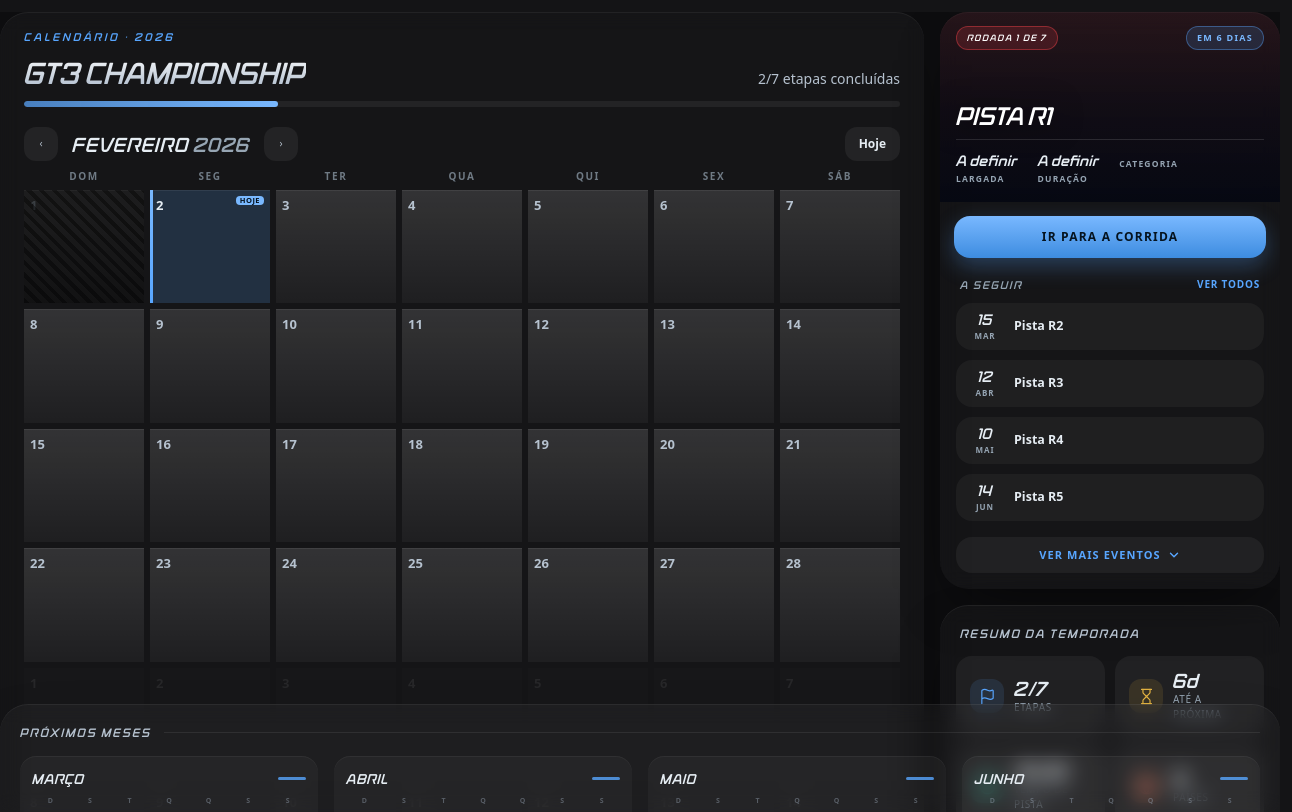
it: CalendarTabRedesign — próximas etapas › 'Ver todos' EXPANDE a lista — não é o botão 'Hoje' disfarçado
Click the button "Ver todos".
click(1229, 284)  # box [1197, 277, 1260, 292]
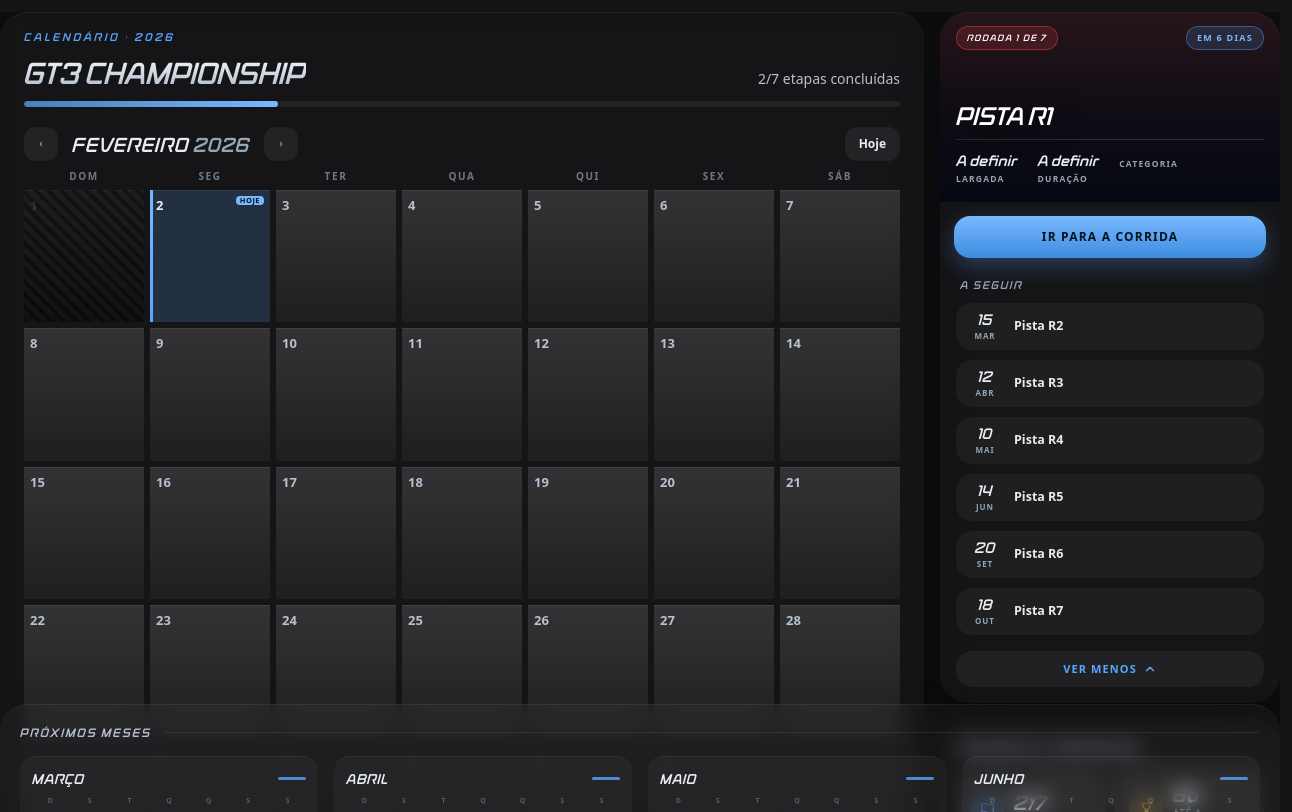
Expected: the text "Pista R2" is shown 6 times, [1014, 317, 1064, 334]; [1014, 374, 1064, 391]; [1014, 431, 1064, 448]; [1014, 488, 1064, 505]; [1014, 545, 1064, 562]; [1014, 602, 1064, 619]
